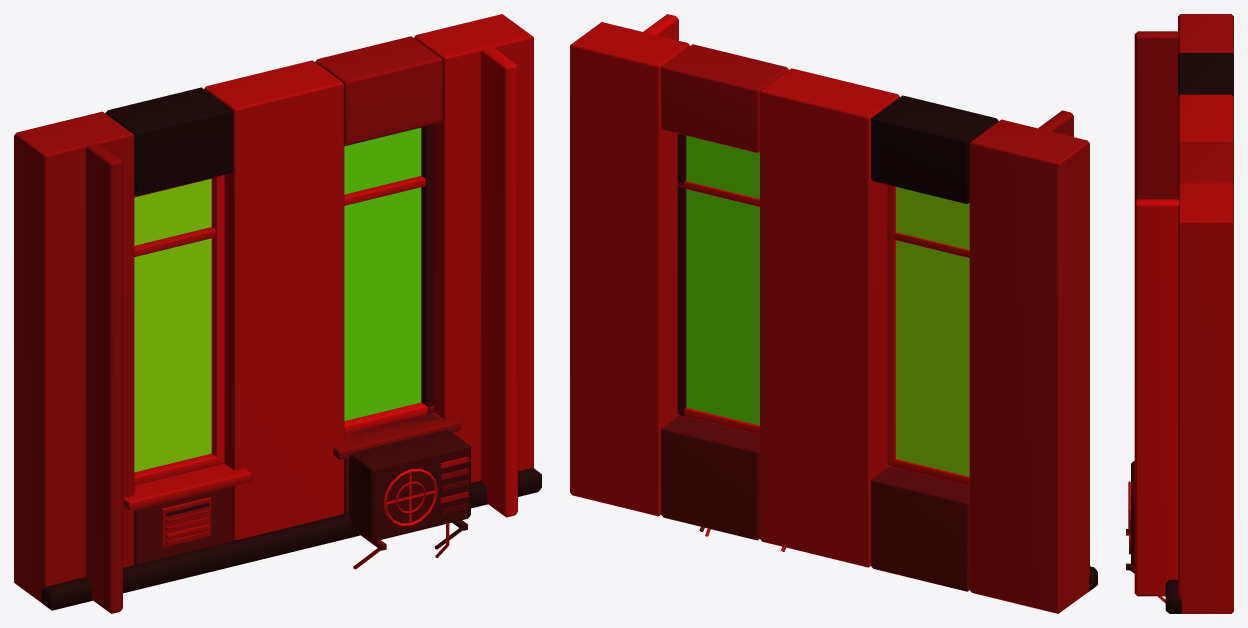
File: fac_concrete_b.glb
3 views of the same model, side by side, from view 1: azimuth 30°, elevation 25°; view 2: azimuth 150°, elevation 25°; view 3: azimuth 270°, elevation 25° (orthographic). The views are drawn at different scales.
Parts seen in each view (by area): view 1: fac_concrete_b; view 2: fac_concrete_b; view 3: fac_concrete_b.
Part boxes in pixels (x1=…): fac_concrete_b: x1=14, y1=14, x2=541, y2=613; fac_concrete_b: x1=570, y1=14, x2=1097, y2=613; fac_concrete_b: x1=1126, y1=14, x2=1233, y2=613.
Bounding box in the file's own units: 4 × 3.83 × 0.87.
